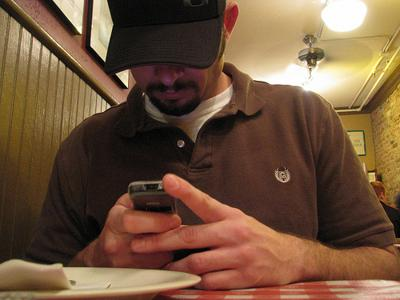person: (31, 2, 400, 290)
